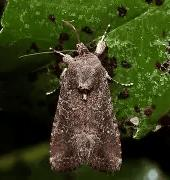army worm adult: (41, 15, 135, 179)
